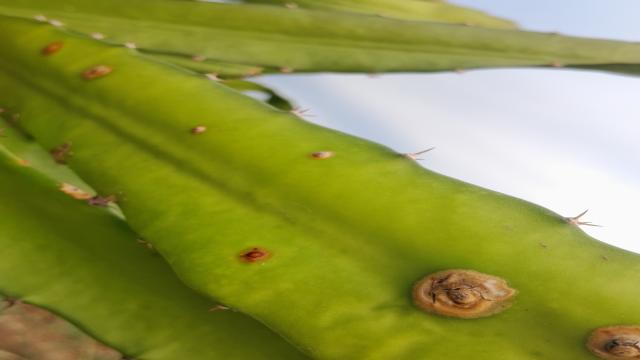stemcanker: (403, 263, 521, 323), (581, 319, 640, 360), (234, 242, 281, 269), (78, 62, 116, 83), (305, 145, 341, 164), (40, 38, 67, 60), (182, 120, 213, 139)
